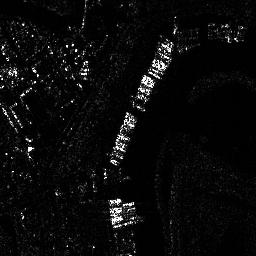ship: (122, 111, 138, 128)
